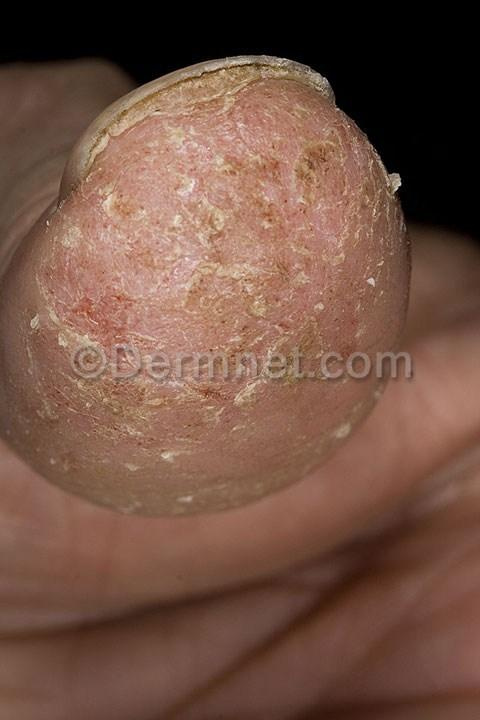Eczema: (93, 96, 377, 411)
